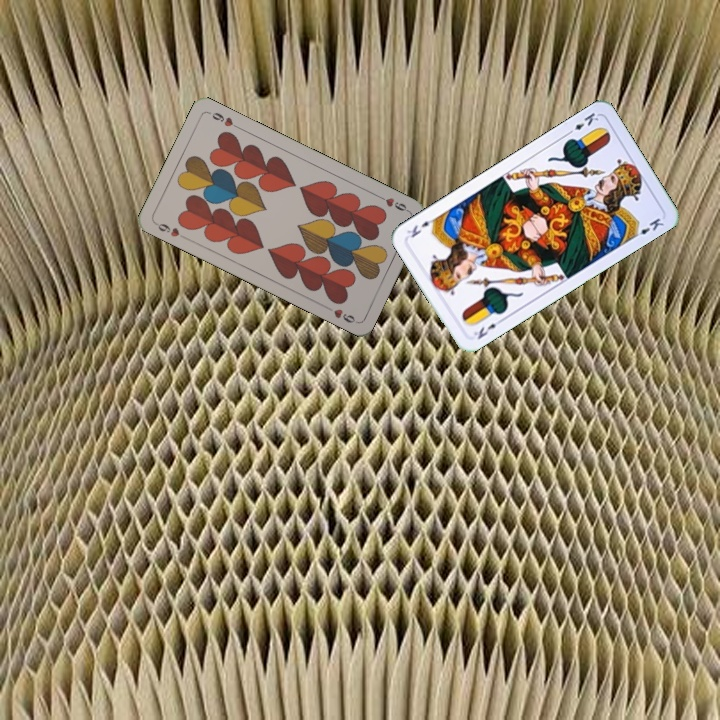EK: (563, 108, 601, 138), (470, 314, 505, 342)
H9: (151, 218, 189, 242), (374, 191, 412, 215)
